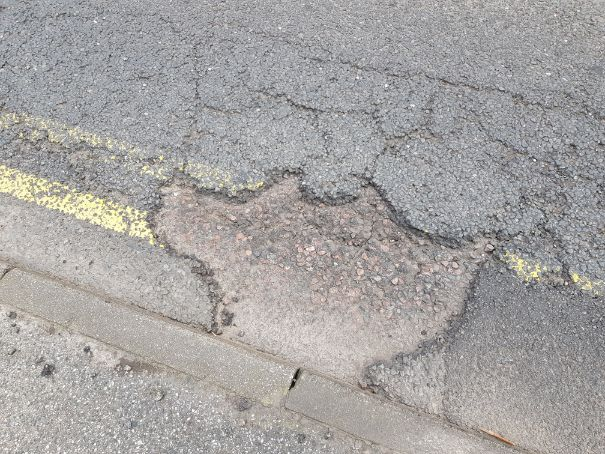pothole: (146, 157, 508, 390)
